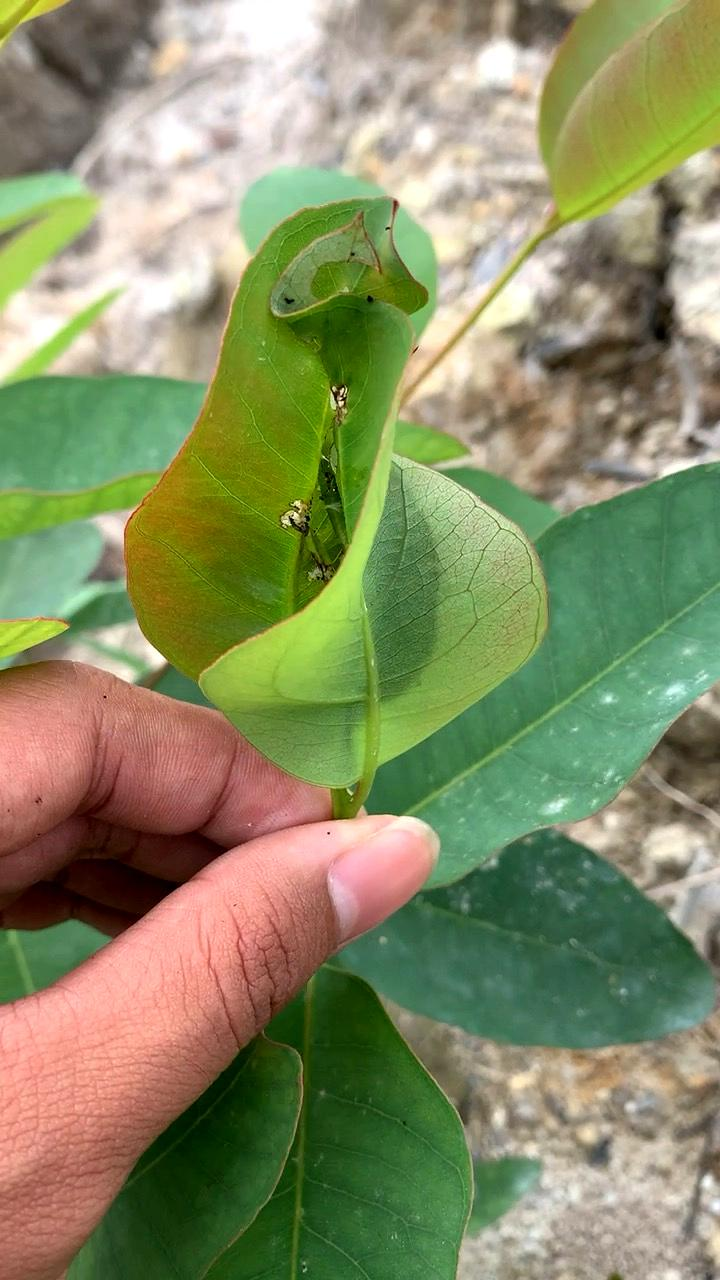Leaf Roller - Leaf: (105, 178, 583, 792)
